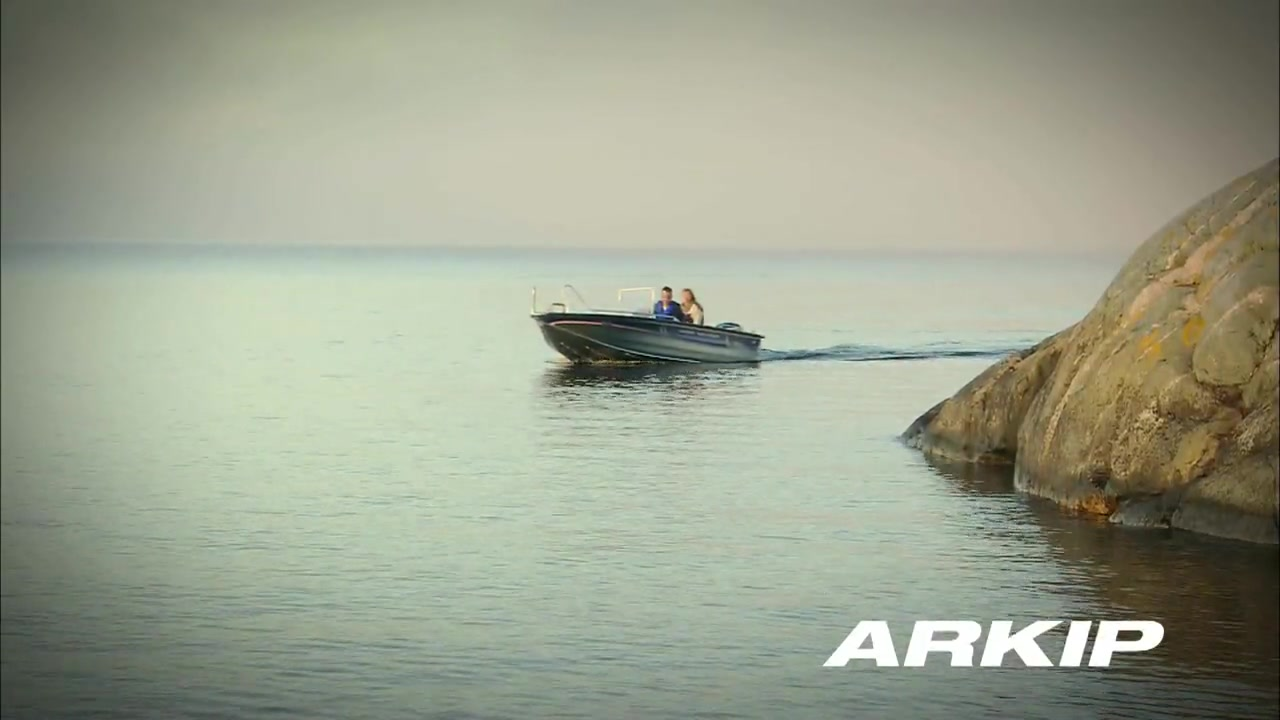boat: (530, 283, 769, 376)
